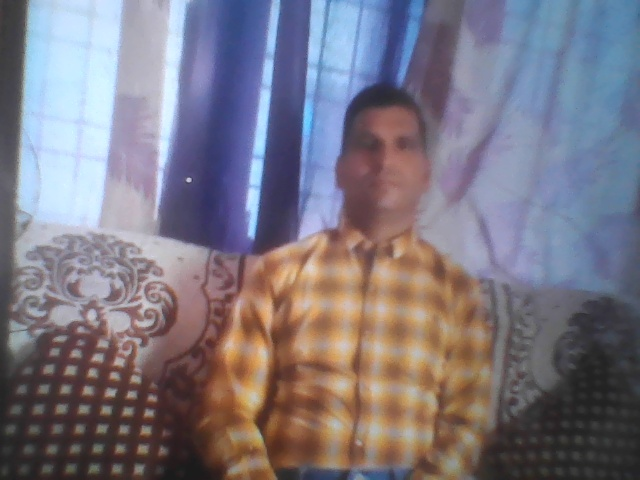fake: (328, 56, 452, 232)
